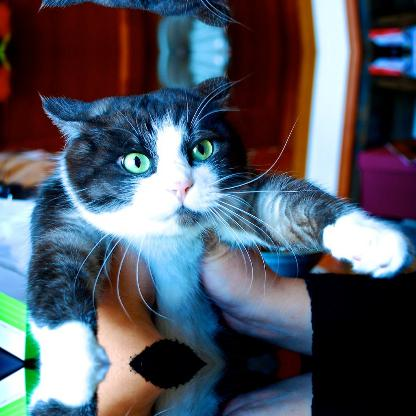Cat: (38, 74, 416, 362)
